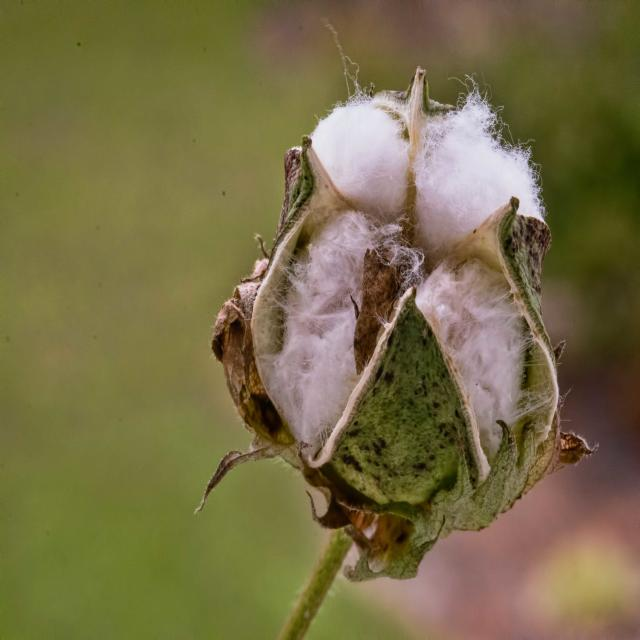Split Cotton Boll: (233, 72, 545, 544)
